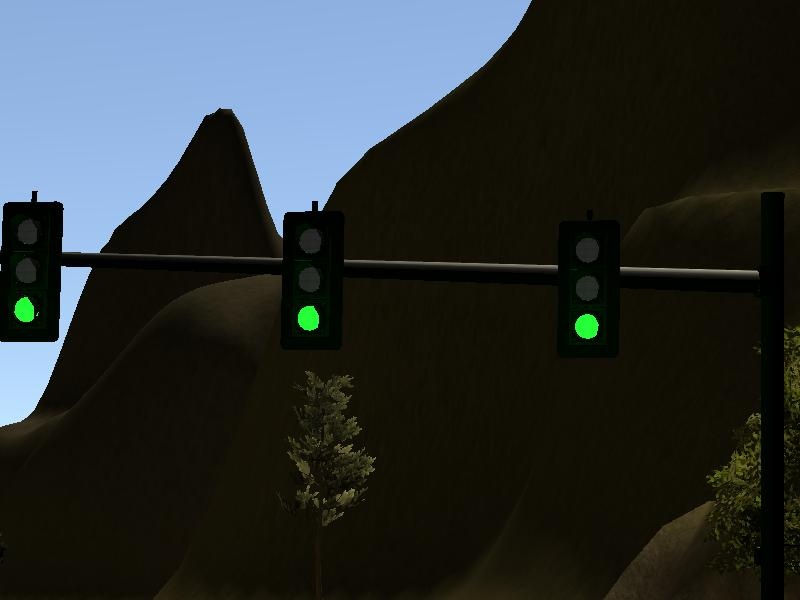green: (279, 196, 348, 358), (545, 219, 619, 356), (5, 197, 67, 348)
